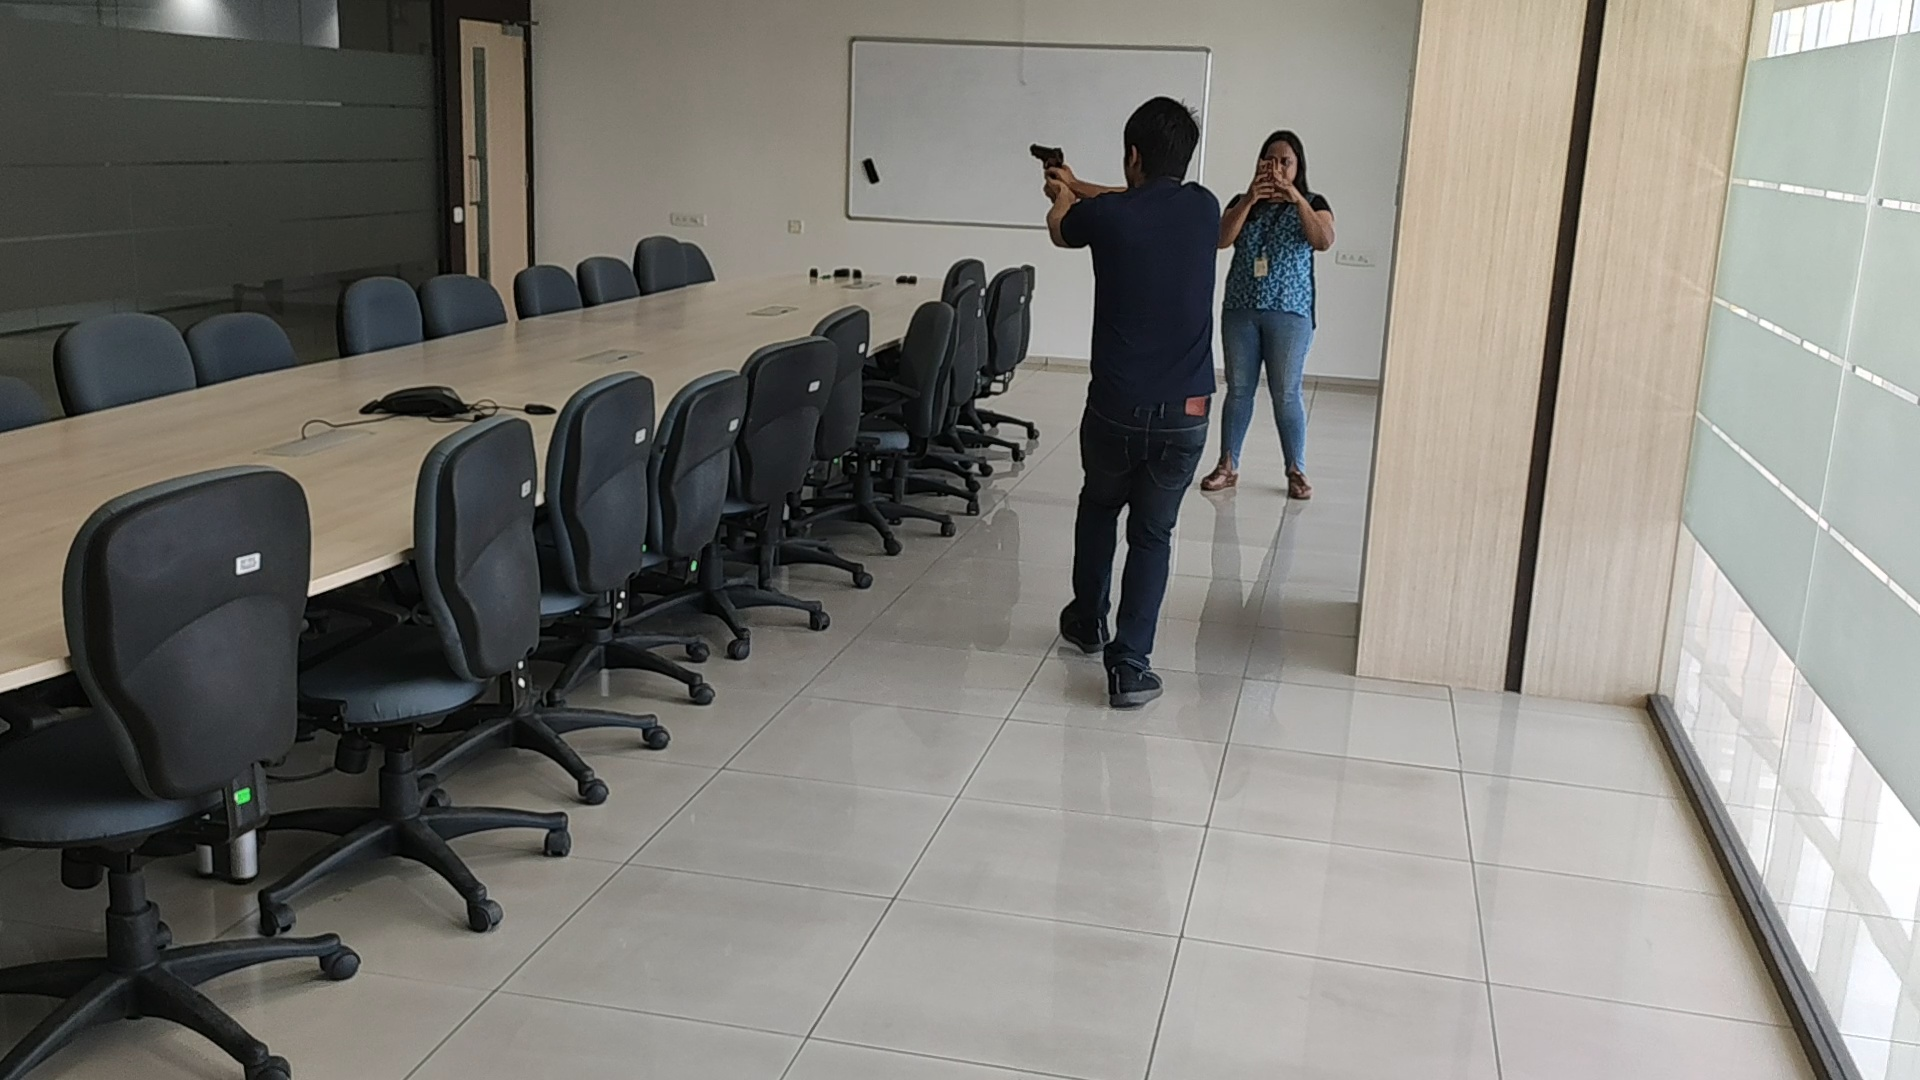gun: (1027, 142, 1065, 175)
